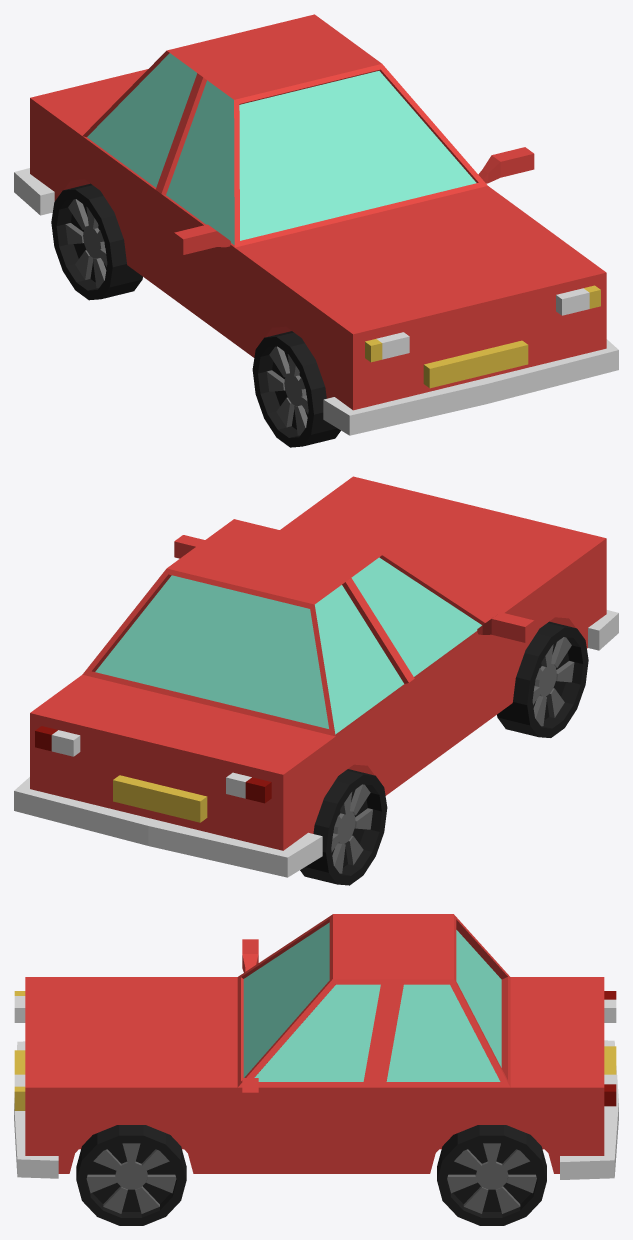
The model's file is RedCar.fbx.
3 views of the same model, one above another, from view 1: azimuth 30°, elevation 25°; view 2: azimuth 150°, elevation 25°; view 3: azimuth 270°, elevation 25° (orthographic). The views are drawn at different scales.
Visible parts, largest first — view 1: Car, TailLights.003, TailLights.002; view 2: Car, TailLights.002, TailLights.003; view 3: Car, TailLights.002, TailLights.003.
Boxes of the visible parts, <box> form: Car: <box>14,14,618,435</box>; TailLights.003: <box>51,183,142,300</box>; TailLights.002: <box>252,331,340,447</box>; Car: <box>14,476,618,877</box>; TailLights.002: <box>497,621,588,737</box>; TailLights.003: <box>300,769,387,885</box>; Car: <box>14,914,618,1179</box>; TailLights.002: <box>76,1125,186,1225</box>; TailLights.003: <box>437,1125,546,1225</box>.
Bounding box in the file's own units: 162 × 270 × 108.
